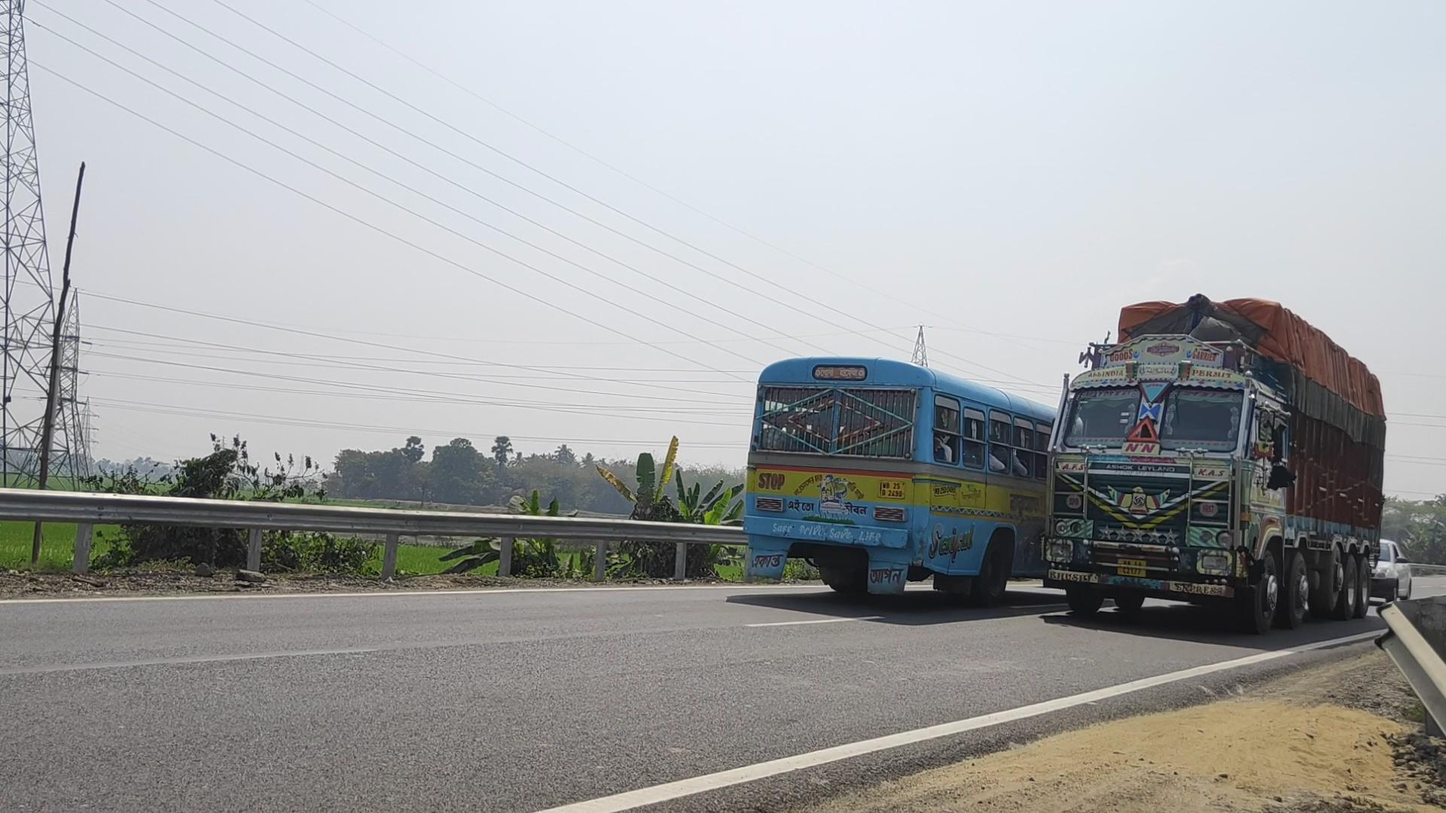Bus: (742, 355, 1060, 605)
car: (1368, 537, 1413, 607)
truck: (1041, 297, 1388, 635)
